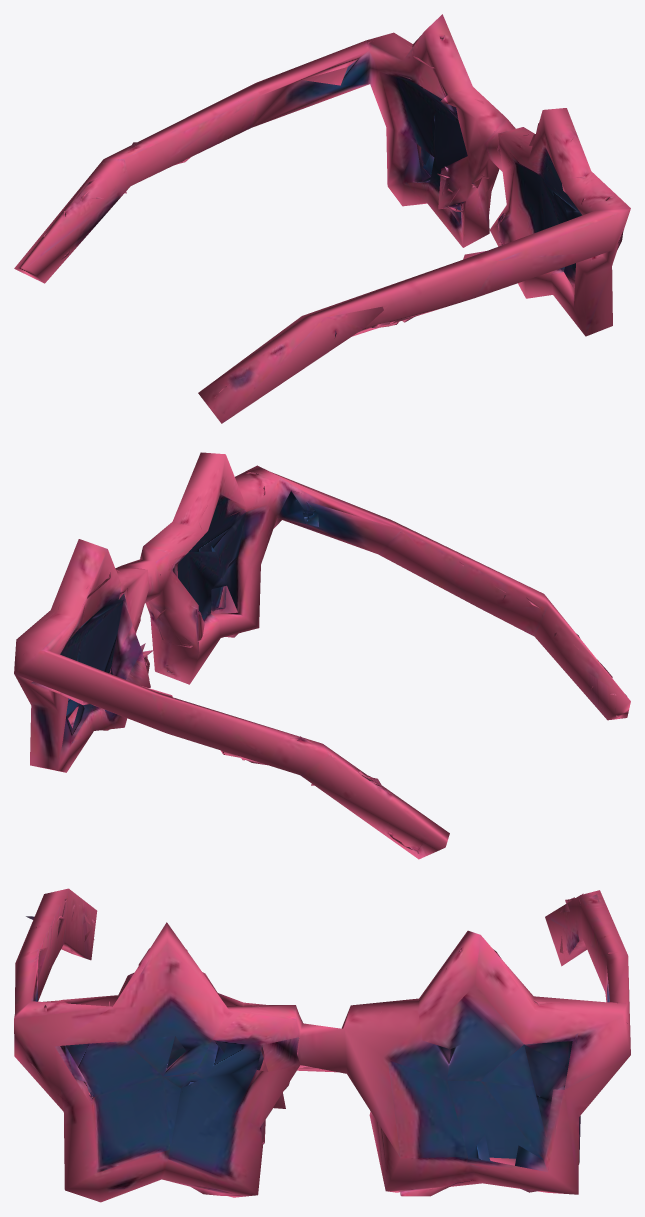
The model's file is starglasses.glb.
3 renders of one model, top to bottom at view 1: azimuth 30°, elevation 25°; view 2: azimuth 150°, elevation 25°; view 3: azimuth 270°, elevation 25°, orthographic. The views are drawn at different scales.
Parts seen in each view (by area): view 1: tripo_node_61696daa-379b-495c-9beb-df1f847ce2b1; view 2: tripo_node_61696daa-379b-495c-9beb-df1f847ce2b1; view 3: tripo_node_61696daa-379b-495c-9beb-df1f847ce2b1.
Part boxes in pixels (x1,y1,x2,y2): tripo_node_61696daa-379b-495c-9beb-df1f847ce2b1: [14, 14, 630, 423]; tripo_node_61696daa-379b-495c-9beb-df1f847ce2b1: [14, 452, 630, 859]; tripo_node_61696daa-379b-495c-9beb-df1f847ce2b1: [14, 888, 630, 1202].
Bounding box in the file's own units: 0.98 × 0.4818 × 0.9945.
Materials: 1 (1 with a texture image).
